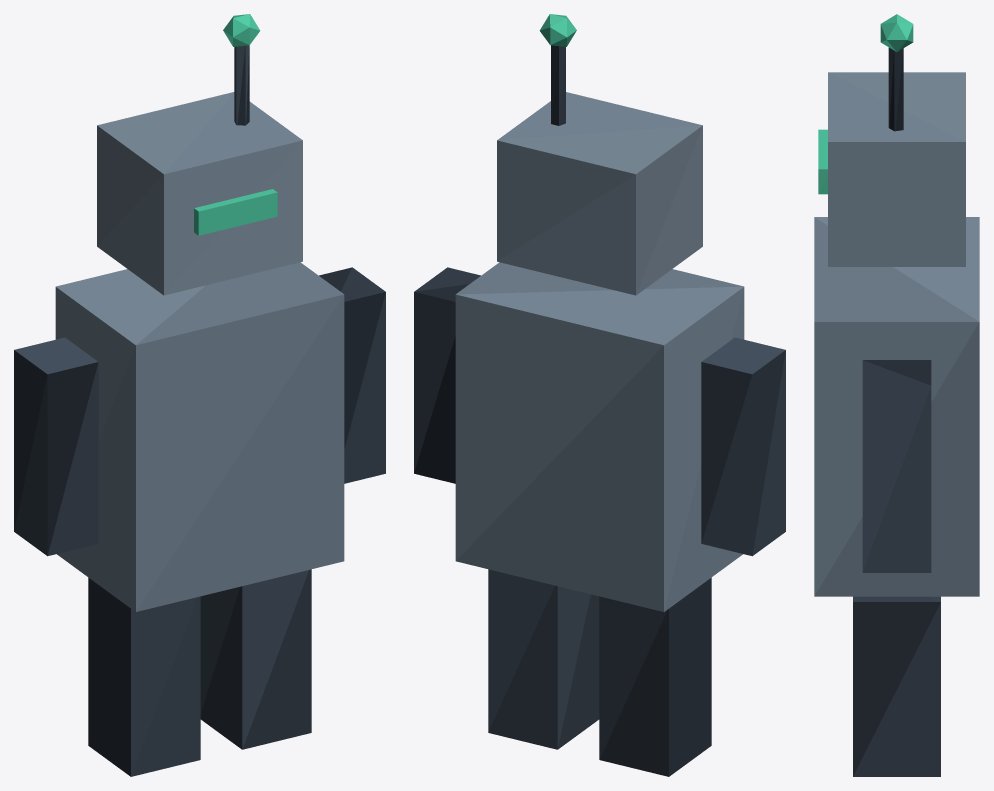
Rendered from robot.glb.
3 views of the same model, side by side, from view 1: azimuth 30°, elevation 25°; view 2: azimuth 150°, elevation 25°; view 3: azimuth 270°, elevation 25° (orthographic). The views are drawn at different scales.
Bounding box in the file's own units: 1.46 × 2.94 × 0.6.
